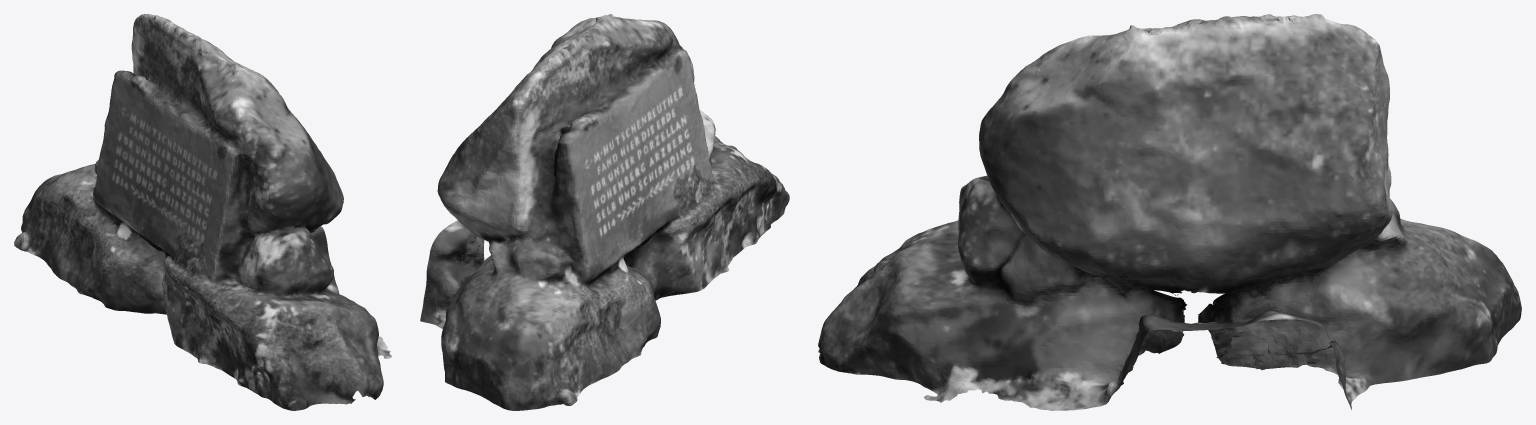
The model's file is Denkmal_bnw.glb.
3 renders of one model, left to right at view 1: azimuth 30°, elevation 25°; view 2: azimuth 150°, elevation 25°; view 3: azimuth 270°, elevation 25°, orthographic. The views are drawn at different scales.
Visible parts, largest first — view 1: Mesh_0.001; view 2: Mesh_0.001; view 3: Mesh_0.001.
Boxes of the visible parts, <box> form: Mesh_0.001: <box>14,14,391,410</box>; Mesh_0.001: <box>420,14,789,410</box>; Mesh_0.001: <box>818,14,1521,410</box>.
Bounding box in the file's own units: 0.8505 × 1.1 × 2.11.
1 material, 1 textured.
